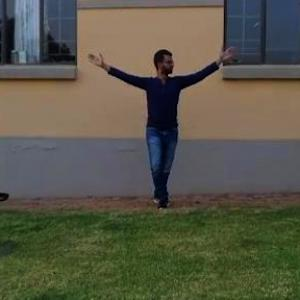takeoff: (100, 34, 261, 217)
